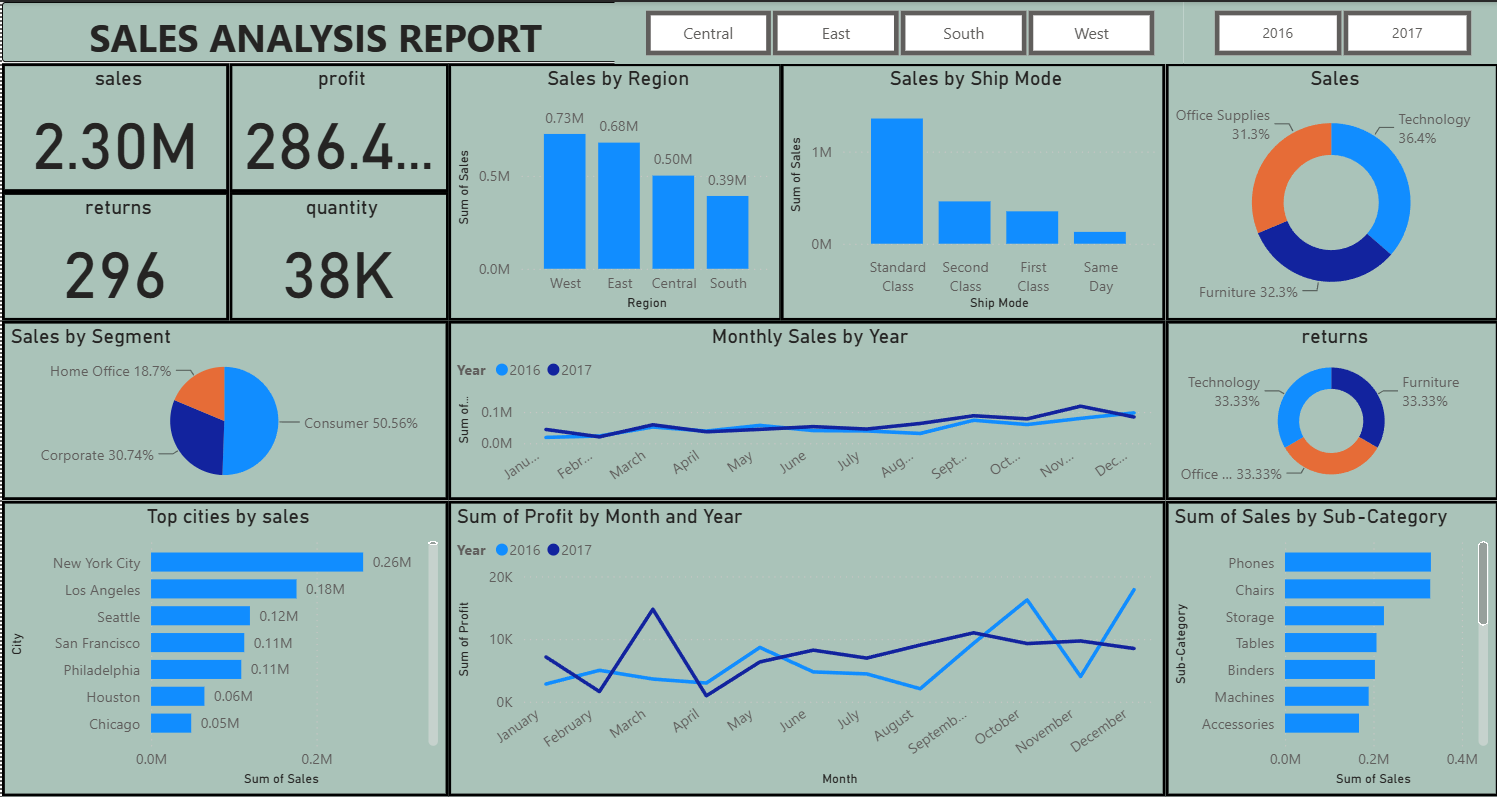

Layout of this report page (visuals, bound fields, positions):
{"tool":"powerbi","page":{"name":"Page 1","canvas":[1280,720],"ordinal":0},"visuals":[{"type":"card","title":"sales","fields":{"Values":["Sum(Orders.Sales)"]},"box":[0,51.7,190.7,108],"z":0},{"type":"card","title":"quantity","fields":{"Values":["Sum(Orders.Quantity)"]},"box":[190.7,159.7,183.8,108],"z":1000},{"type":"card","title":"returns","fields":{"Values":["Count(Returns.Order ID)"]},"box":[0,159.7,190.7,108],"z":2000},{"type":"card","title":"profit","fields":{"Values":["Sum(Orders.Profit)"]},"box":[190.7,51.7,183.8,108],"z":3000},{"type":"columnChart","title":" Sales by Region","fields":{"Category":["Orders.Region"],"Y":["Sum(Orders.Sales)"]},"box":[374.5,51.7,280.3,216],"z":4000},{"type":"columnChart","title":" Sales by Ship Mode","fields":{"Category":["Orders.Ship Mode"],"Y":["Sum(Orders.Sales)"]},"box":[653.6,51.7,322.8,216],"z":5000},{"type":"donutChart","title":"Sales ","fields":{"Category":["Orders.Category"],"Y":["Sum(Orders.Sales)"]},"box":[976.4,51.7,279.1,216],"z":6000},{"type":"pieChart","title":" Sales by Segment","fields":{"Category":["Orders.Segment"],"Y":["Sum(Orders.Sales)"]},"box":[0,267.6,374.5,150.5],"z":7000},{"type":"barChart","title":"Top cities by sales","fields":{"Y":["Sum(Orders.Sales)"],"Category":["Orders.City"]},"box":[0,418.1,374.5,248.1],"z":8000},{"type":"lineChart","title":"Monthly Sales by Year","fields":{"Category":["Orders.Order Date.Variation.Date Hierarchy.Month"],"Y":["Sum(Orders.Sales)"],"Series":["Orders.Order Date.Variation.Date Hierarchy.Year"]},"box":[374.5,267.6,601.9,150.5],"z":9000},{"type":"lineChart","fields":{"Category":["Orders.Order Date.Variation.Date Hierarchy.Month"],"Series":["Orders.Order Date.Variation.Date Hierarchy.Year"],"Y":["Sum(Orders.Profit)"]},"box":[374.5,418.1,601.9,248.1],"z":10000},{"type":"donutChart","title":"returns","fields":{"Category":["Orders.Category"],"Y":["CountNonNull(Returns.Order ID)"]},"box":[976.4,267.6,279.1,150.5],"z":11000},{"type":"barChart","fields":{"Category":["Orders.Sub-Category"],"Y":["Sum(Orders.Sales)"]},"box":[976.4,418.1,279.1,248.1],"z":12000},{"type":"textbox","box":[0,0,533.8,50.8],"z":13000},{"type":"slicer","fields":{"Values":["Orders.Region"]},"box":[513.5,0,476.7,51.7],"z":13001},{"type":"slicer","fields":{"Values":["Orders.Order Date.Variation.Date Hierarchy.Year"]},"box":[990.2,0,265.3,51.7],"z":13002}]}

Visuals, with their boxes on the page's 1280x720 design canvas (x1, y1, x2, y2). These are canvas units, not pixel positions in the 1497x797 screenshot, which may show the page scaled, cropped or inside an application window:
"sales" card: x1=0, y1=52, x2=191, y2=160
"quantity" card: x1=191, y1=160, x2=374, y2=268
"returns" card: x1=0, y1=160, x2=191, y2=268
"profit" card: x1=191, y1=52, x2=374, y2=160
" Sales by Region" columnChart: x1=374, y1=52, x2=655, y2=268
" Sales by Ship Mode" columnChart: x1=654, y1=52, x2=976, y2=268
"Sales " donutChart: x1=976, y1=52, x2=1256, y2=268
" Sales by Segment" pieChart: x1=0, y1=268, x2=374, y2=418
"Top cities by sales" barChart: x1=0, y1=418, x2=374, y2=666
"Monthly Sales by Year" lineChart: x1=374, y1=268, x2=976, y2=418
lineChart - Orders.Order Date.Variation.Date Hierarchy.Month x Orders.Order Date.Variation.Date Hierarchy.Year: x1=374, y1=418, x2=976, y2=666
"returns" donutChart: x1=976, y1=268, x2=1256, y2=418
barChart - Orders.Sub-Category x Sum(Orders.Sales): x1=976, y1=418, x2=1256, y2=666
textbox: x1=0, y1=0, x2=534, y2=51
slicer - Orders.Region: x1=514, y1=0, x2=990, y2=52
slicer - Orders.Order Date.Variation.Date Hierarchy.Year: x1=990, y1=0, x2=1256, y2=52
